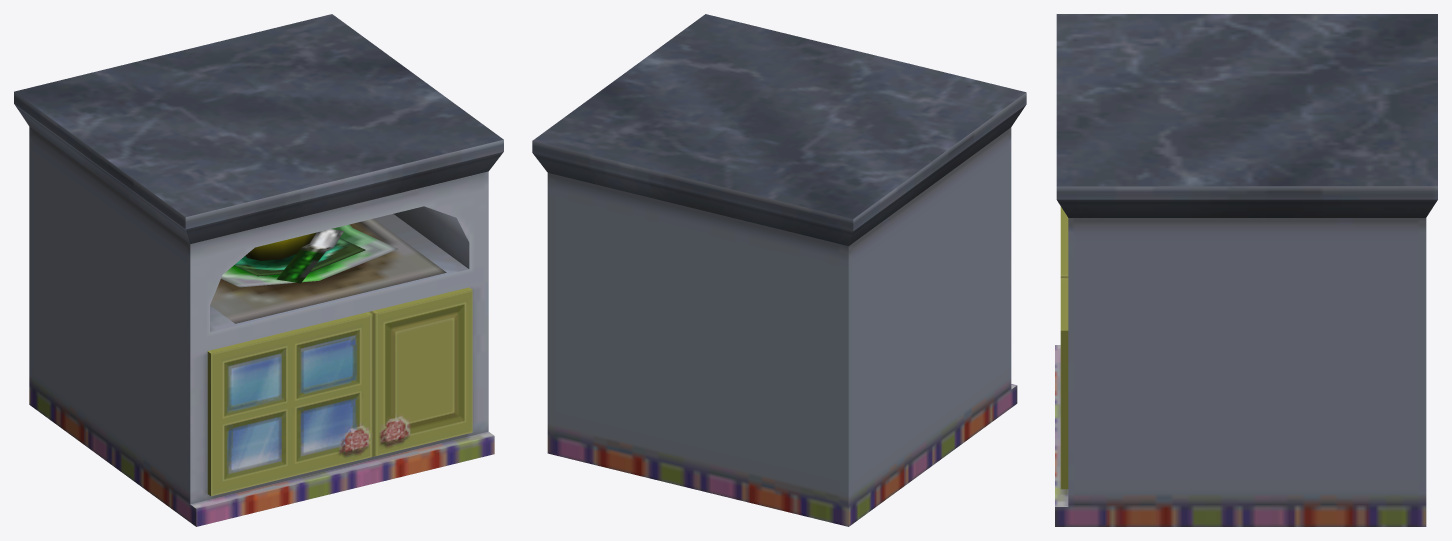
The model's file is furni_0200621.FBX.
The picture shows the model from 3 angles, left to right: view 1: azimuth 30°, elevation 25°; view 2: azimuth 150°, elevation 25°; view 3: azimuth 270°, elevation 25°; orthographic projection. The views are drawn at different scales.
Parts seen in each view (by area): view 1: furni_0200621; view 2: furni_0200621; view 3: furni_0200621.
Part boxes in pixels (x1,y1,x2,y2): furni_0200621: (14,14,503,526); furni_0200621: (532,14,1026,526); furni_0200621: (1055,14,1437,526).
Size of the model in its own units: 85.28 by 79.79 by 80.04.
1 material, 1 textured.
